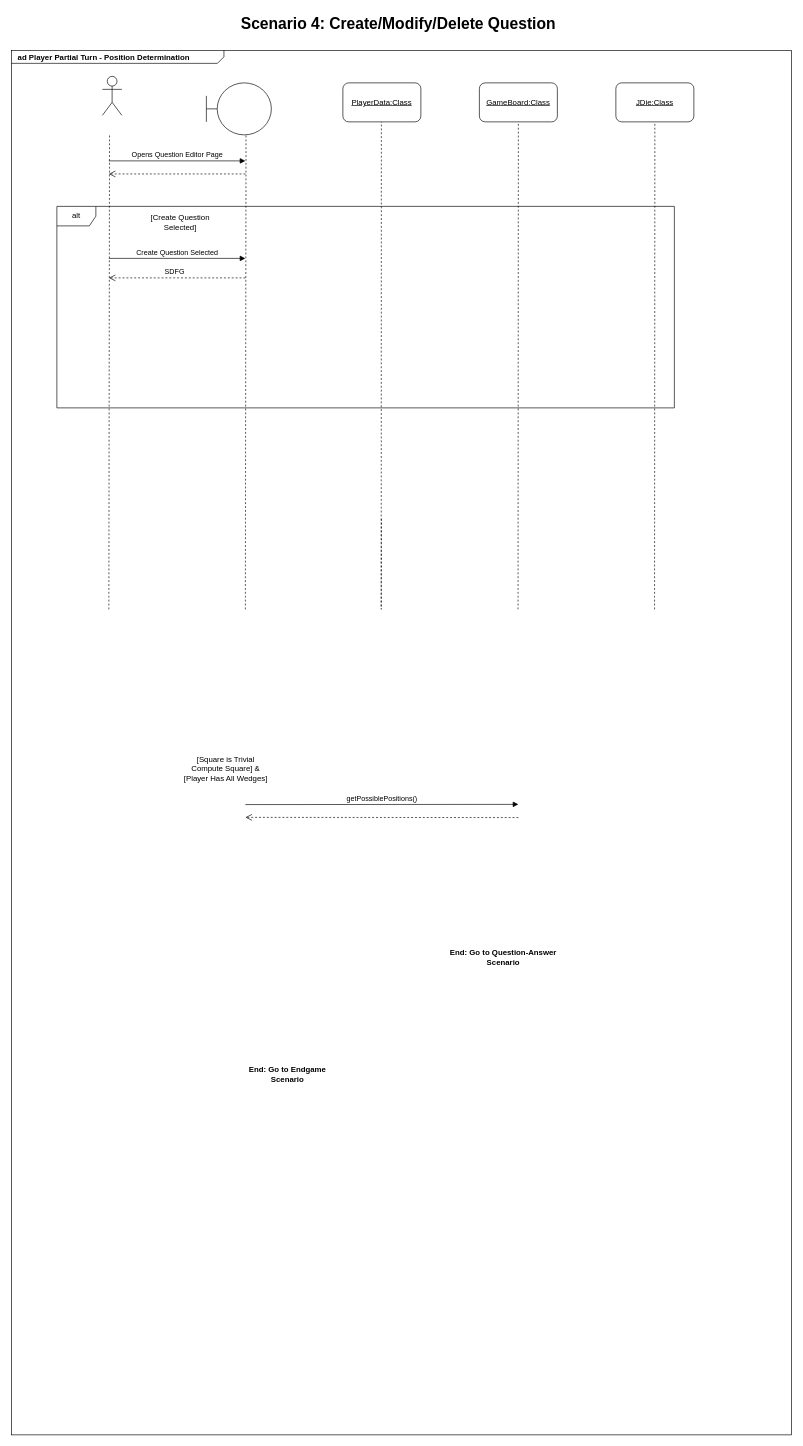
This 803x1446 diagram has some shape labels left out. Each missing label, with the centre of its shape:
Boundary Object: the point at 238,108
Instructor: the point at 112,95
